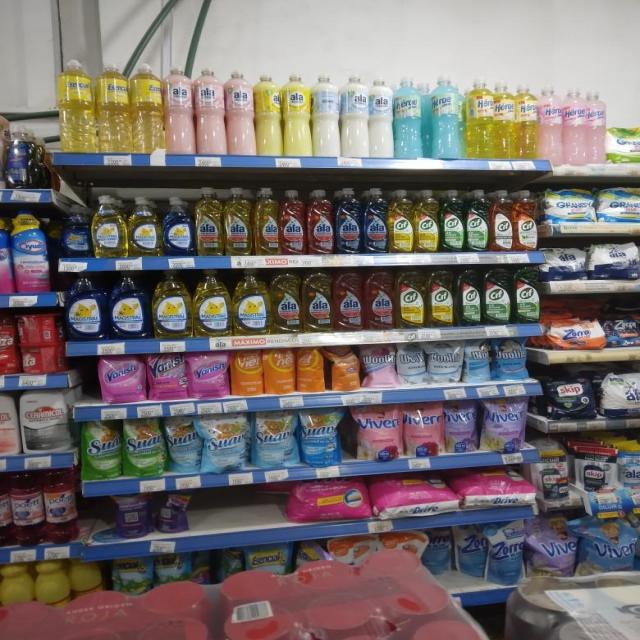ala_conc_amarillo: (271, 268, 302, 334), (224, 187, 252, 256), (195, 188, 223, 256), (303, 268, 332, 333), (253, 187, 280, 255)
ala_conc_azul: (335, 187, 362, 254), (363, 187, 387, 254)
ala_conc_rojo: (364, 268, 395, 330), (307, 188, 334, 256), (334, 269, 363, 332), (280, 188, 306, 256)
ala_crem_amarillo: (284, 72, 312, 157), (256, 74, 282, 156)
ala_crem_blanco: (342, 75, 368, 158), (369, 77, 393, 158)
ala_crem_rosado: (196, 68, 226, 155), (166, 66, 194, 154), (227, 70, 255, 156)
cif_conc_bot_amarilla: (396, 268, 425, 330), (388, 188, 414, 254), (426, 268, 454, 328), (415, 189, 439, 253)
cif_conc_botella_roja: (514, 189, 539, 252), (490, 189, 513, 252)
cif_conc_botella_verde: (483, 268, 511, 326), (455, 268, 482, 326), (513, 266, 540, 324), (440, 188, 464, 252), (466, 189, 489, 252)
heroe: (538, 86, 562, 163), (564, 87, 586, 165), (586, 88, 606, 164)
magistral_con_amarillo: (152, 269, 192, 338), (194, 268, 231, 338), (233, 268, 270, 336), (92, 194, 126, 258), (128, 196, 161, 257)
magistral_con_azul: (66, 272, 106, 341), (109, 270, 149, 339), (163, 196, 194, 256), (61, 208, 90, 258)
